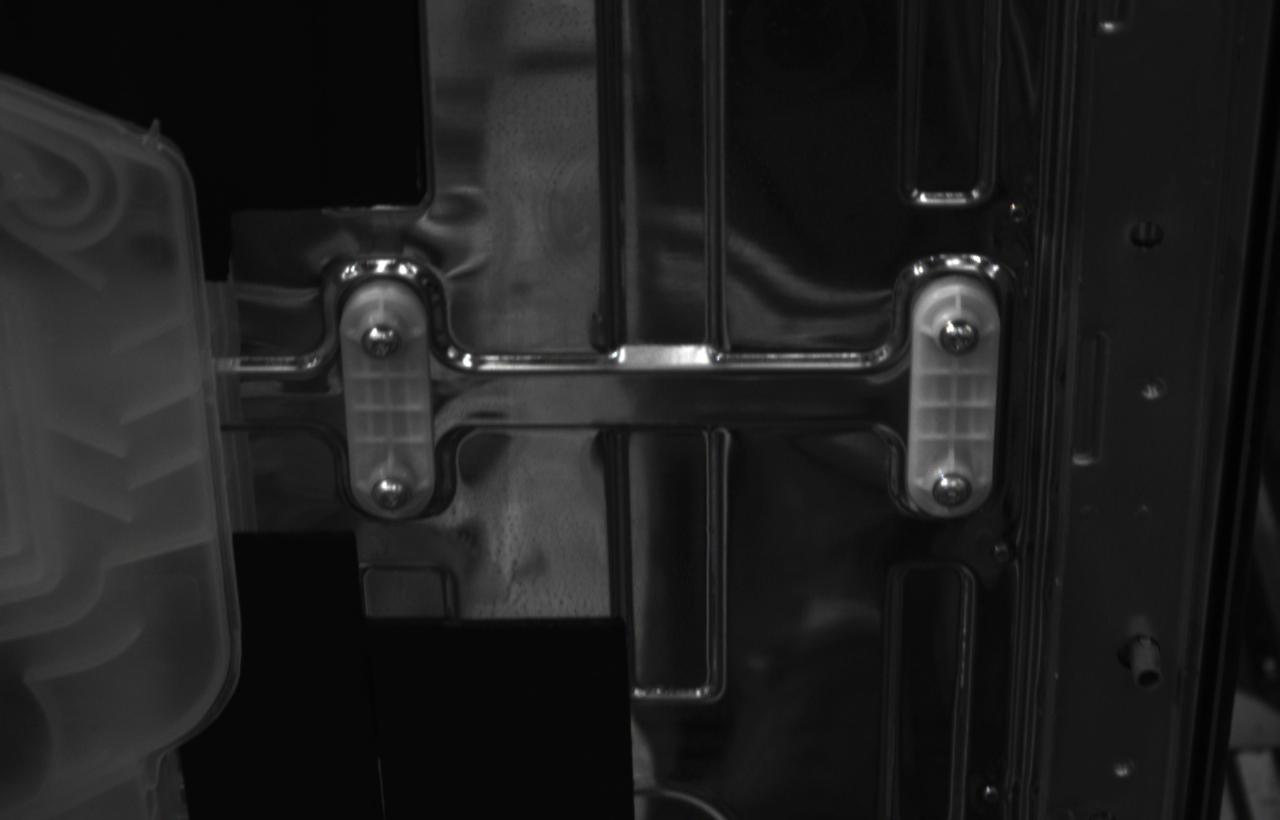vida-ok: (939, 319, 980, 356), (361, 325, 401, 359), (932, 473, 972, 507), (372, 477, 408, 510)
